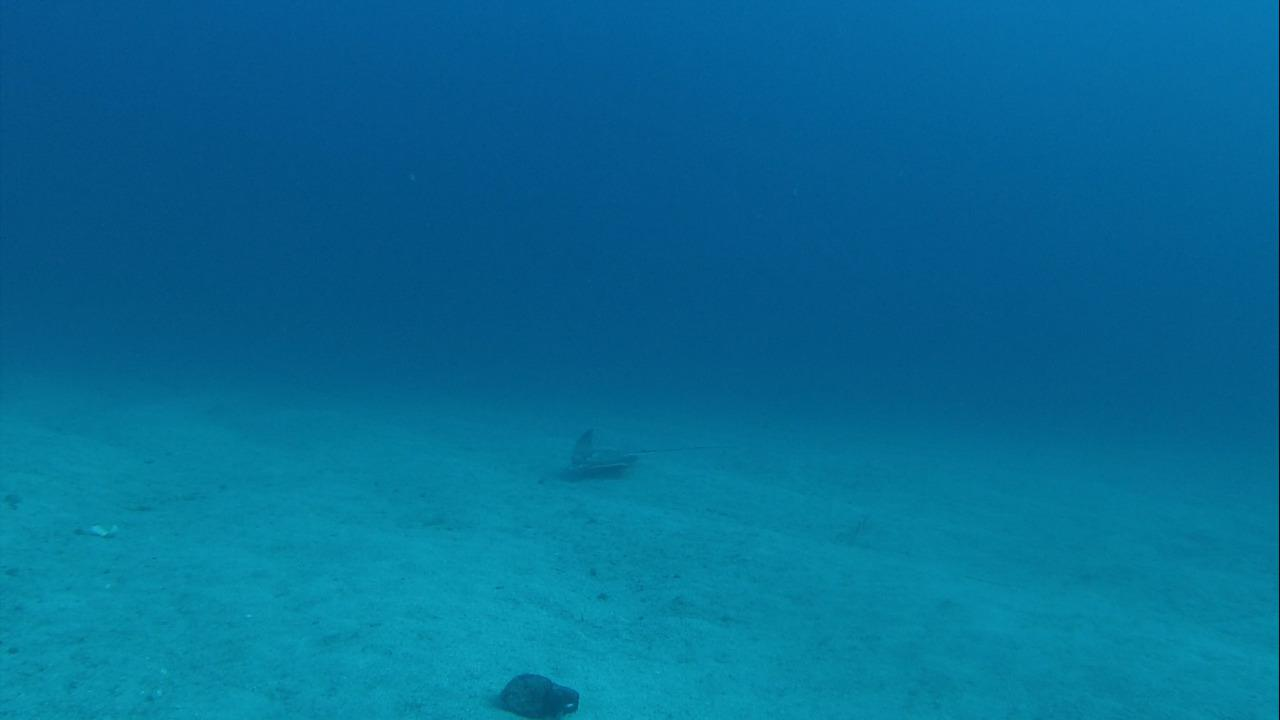myliobatis: (547, 423, 691, 477)
